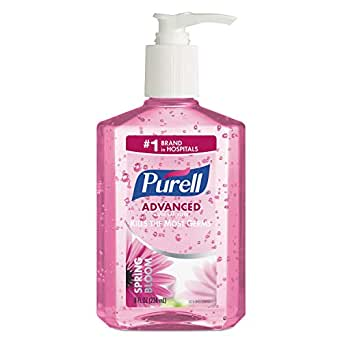Sanitizer: (92, 6, 252, 335)
